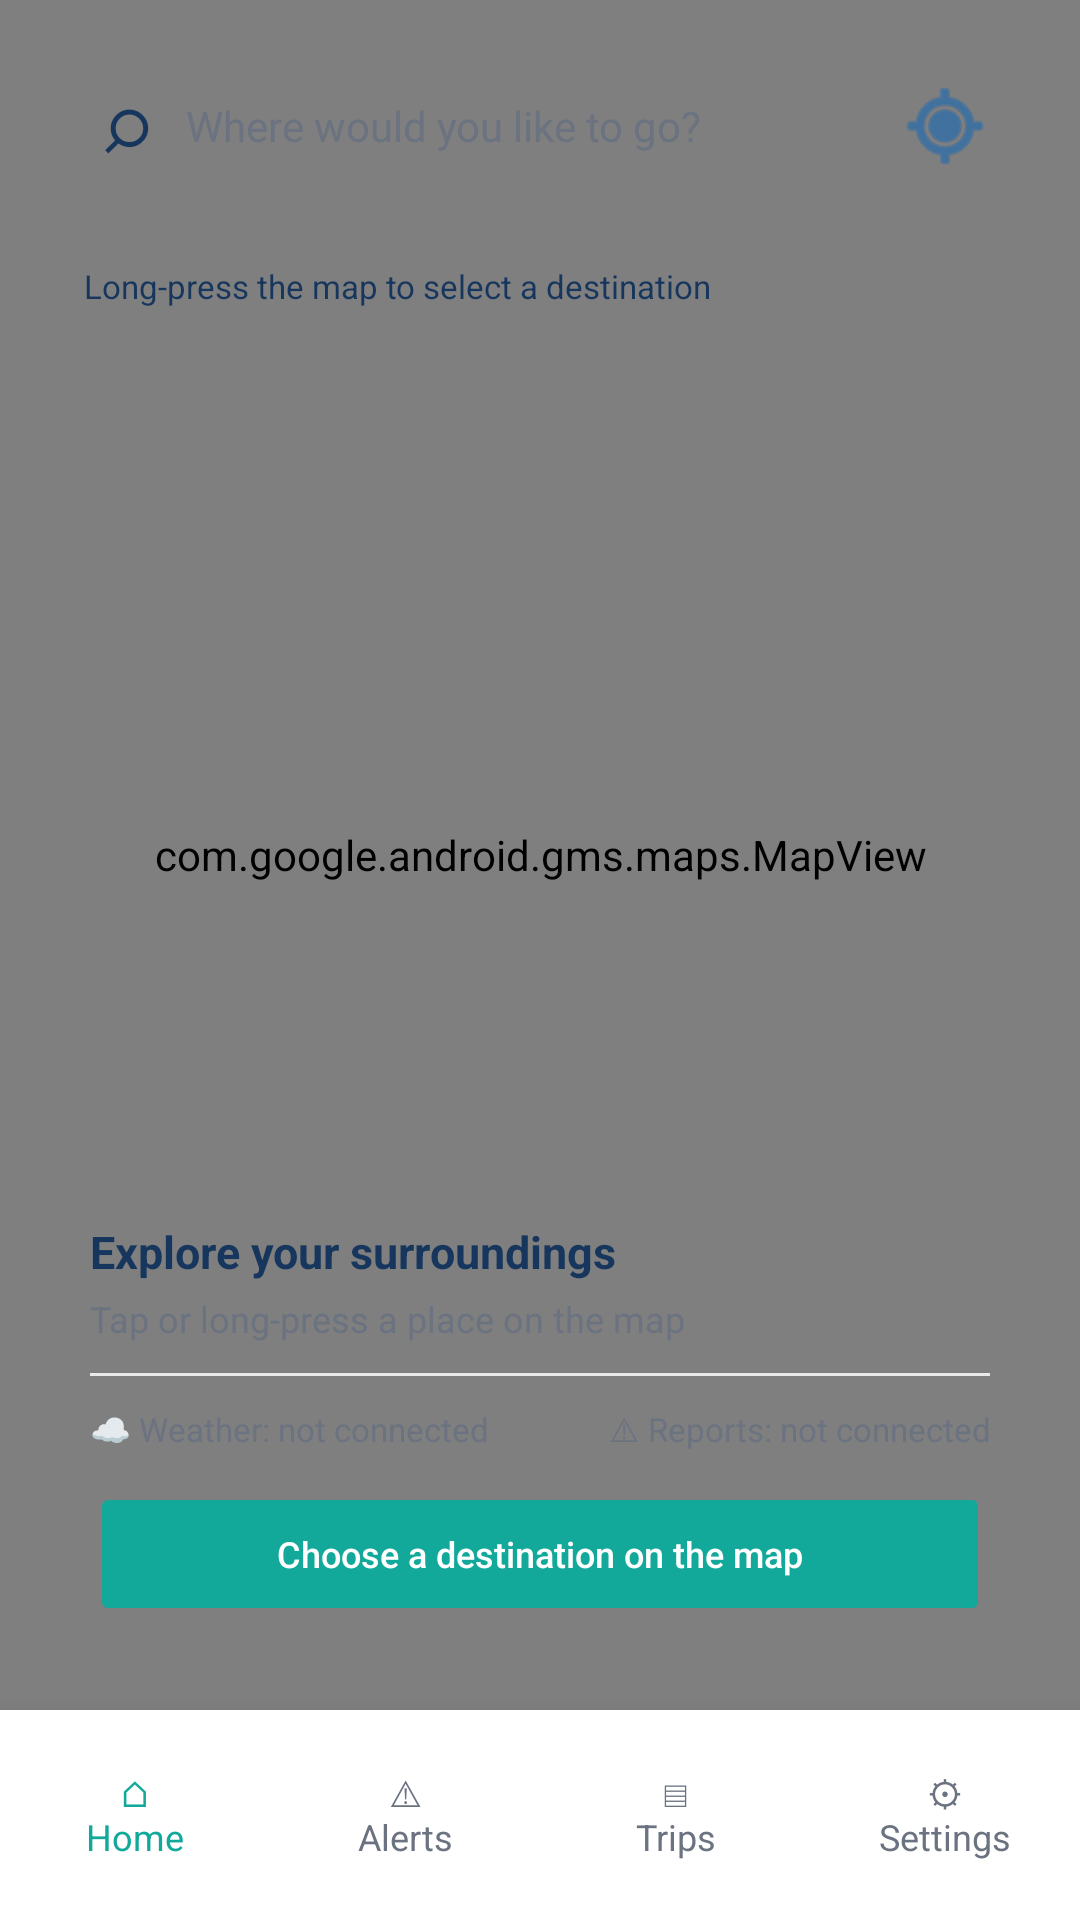

Locate icon controls on the screen. Image size 1080 × 1920, boxes as bbox(x1, y1, x2, y2).
Show my location: bbox(907, 88, 983, 164)
